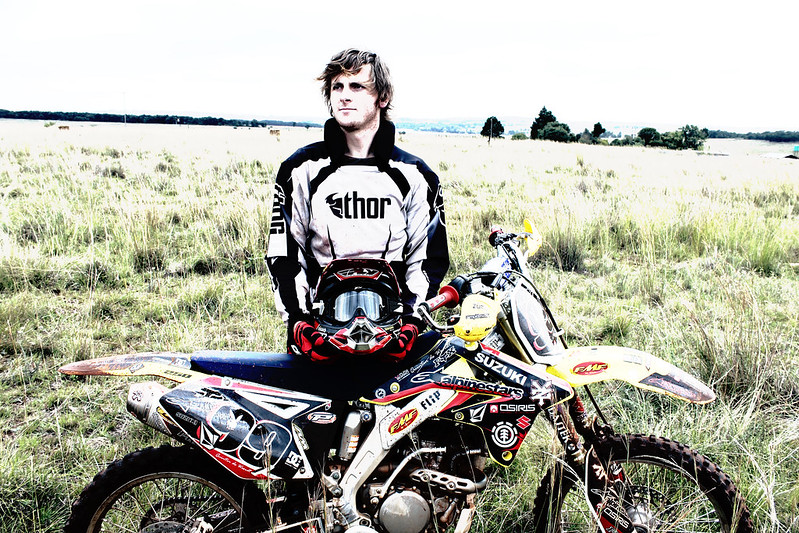motorbike: (13, 251, 771, 533)
person: (265, 23, 448, 304)
